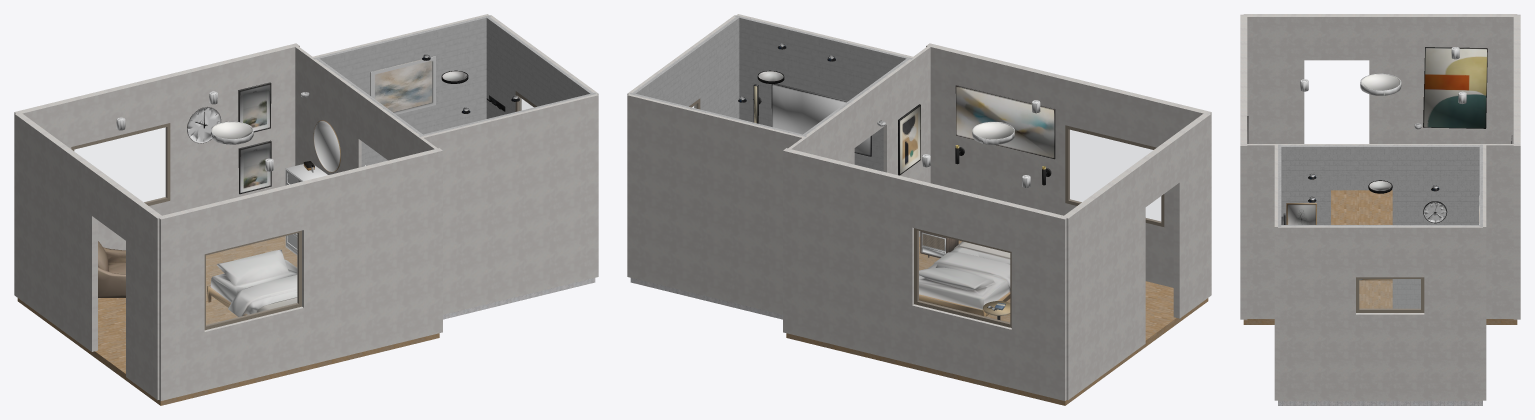
File: scene_named.glb
3 views of the same model, side by side, from view 1: azimuth 30°, elevation 25°; view 2: azimuth 150°, elevation 25°; view 3: azimuth 270°, elevation 25° (orthographic). The views are drawn at different scales.
Visible parts, largest first — view 1: south_wall_exterior_bedroom/south_wall_exterior_bedroom/geom, south_wall_exterior_bathroom/south_wall_exterior_bathroom/ge, west_wall_exterior_bedroom/west_wall_exterior_bedroom/geomet, north_wall_bedroom/north_wall_bedroom/geometry_0, north_wall_bathroom/north_wall_bathroom/geometry_0, east_wall_bedroom/east_wall_bedroom/geometry_0, window_2_bedroom/window_2_bedroom/glass, floor_bedroom, east_wall_bathroom/east_wall_bathroom/geometry_0, bed_0, window_1_bedroom/window_1_bedroom/glass, wall_print_0 (+12 smaller); view 2: north_wall_exterior_bedroom/north_wall_exterior_bedroom/geom, north_wall_exterior_bathroom/north_wall_exterior_bathroom/ge, west_wall_exterior_bedroom/west_wall_exterior_bedroom/geomet, south_wall_bedroom/south_wall_bedroom/geometry_0, south_wall_bathroom/south_wall_bathroom/geometry_0, east_wall_bedroom/east_wall_bedroom/geometry_0, window_1_bedroom/window_1_bedroom/glass, east_wall_bathroom/east_wall_bathroom/geometry_0, bed_0, canvas_artwork_0, floor_bedroom, window_2_bedroom/window_2_bedroom/glass (+10 smaller); view 3: east_wall_exterior_bathroom/east_wall_exterior_bathroom/geom, west_wall_bedroom/west_wall_bedroom/geometry_0, west_wall_bathroom/west_wall_bathroom/geometry_0, east_wall_bedroom/east_wall_bedroom/geometry_0, artwork_0, floor_bedroom, window_3_bathroom/window_3_bathroom/glass, north_wall_bedroom/north_wall_bedroom/geometry_0, south_wall_bedroom/south_wall_bedroom/geometry_0, north_wall_exterior_bedroom/north_wall_exterior_bedroom/geom, south_wall_exterior_bedroom/south_wall_exterior_bedroom/geom, north_wall_exterior_bathroom/north_wall_exterior_bathroom/ge (+11 smaller).
Boxes of the visible parts, box(x1,y1,x2,y2) form: south_wall_exterior_bedroom/south_wall_exterior_bedroom/geom: box(159, 149, 442, 400); south_wall_exterior_bathroom/south_wall_exterior_bathroom/ge: box(420, 94, 598, 314); west_wall_exterior_bedroom/west_wall_exterior_bedroom/geomet: box(14, 113, 159, 399); north_wall_bedroom/north_wall_bedroom/geometry_0: box(16, 44, 299, 250); north_wall_bathroom/north_wall_bathroom/geometry_0: box(313, 15, 490, 165); east_wall_bedroom/east_wall_bedroom/geometry_0: box(295, 46, 437, 174); window_2_bedroom/window_2_bedroom/glass: box(206, 233, 297, 325); floor_bedroom: box(17, 236, 439, 405); east_wall_bathroom/east_wall_bathroom/geometry_0: box(486, 17, 592, 118); bed_0: box(207, 249, 297, 316); window_1_bedroom/window_1_bedroom/glass: box(74, 127, 165, 202); wall_print_0: box(370, 56, 435, 114); north_wall_exterior_bedroom/north_wall_exterior_bedroom/geom: box(783, 149, 1066, 400); north_wall_exterior_bathroom/north_wall_exterior_bathroom/ge: box(627, 94, 805, 314); west_wall_exterior_bedroom/west_wall_exterior_bedroom/geomet: box(1066, 113, 1211, 400); south_wall_bedroom/south_wall_bedroom/geometry_0: box(926, 44, 1209, 287); south_wall_bathroom/south_wall_bathroom/geometry_0: box(735, 15, 912, 170); east_wall_bedroom/east_wall_bedroom/geometry_0: box(788, 46, 930, 236); window_1_bedroom/window_1_bedroom/glass: box(918, 231, 1009, 322); east_wall_bathroom/east_wall_bathroom/geometry_0: box(633, 17, 739, 118); bed_0: box(919, 241, 1010, 316); canvas_artwork_0: box(955, 85, 1055, 159); floor_bedroom: box(786, 236, 1208, 405); window_2_bedroom/window_2_bedroom/glass: box(1069, 130, 1160, 221); east_wall_exterior_bathroom/east_wall_exterior_bathroom/geom: box(1278, 226, 1482, 401); west_wall_bedroom/west_wall_bedroom/geometry_0: box(1247, 15, 1513, 143); west_wall_bathroom/west_wall_bathroom/geometry_0: box(1281, 145, 1479, 308); east_wall_bedroom/east_wall_bedroom/geometry_0: box(1247, 144, 1513, 318); artwork_0: box(1423, 47, 1487, 128); floor_bedroom: box(1243, 190, 1517, 324); window_3_bathroom/window_3_bathroom/glass: box(1359, 279, 1420, 308); north_wall_bedroom/north_wall_bedroom/geometry_0: box(1513, 14, 1517, 319); south_wall_bedroom/south_wall_bedroom/geometry_0: box(1243, 14, 1247, 319); north_wall_exterior_bedroom/north_wall_exterior_bedroom/geom: box(1517, 14, 1520, 319); south_wall_exterior_bedroom/south_wall_exterior_bedroom/geom: box(1240, 14, 1243, 319); north_wall_exterior_bathroom/north_wall_exterior_bathroom/ge: box(1483, 144, 1486, 400).
Size of the model in its own units: 7.4 by 2.9 by 4.1.
Materials: 66 (55 with a texture image).
